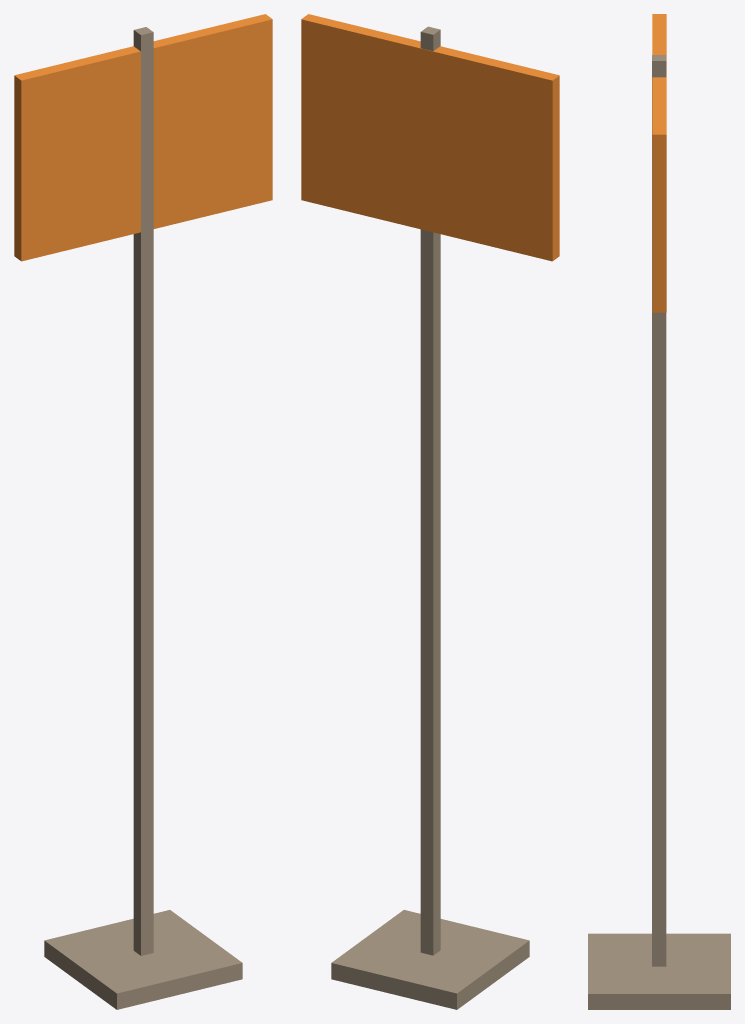
Rendered from stock-car-oval-speedway-pit-sign-pole-d46403e8__16943.glb.
3 views of the same model, side by side, from view 1: azimuth 30°, elevation 25°; view 2: azimuth 150°, elevation 25°; view 3: azimuth 270°, elevation 25° (orthographic).
Visible parts, largest first — view 1: pit-sign-pole; view 2: pit-sign-pole; view 3: pit-sign-pole.
Part boxes in pixels (bbox=[...]): pit-sign-pole: bbox=[14, 14, 272, 1009]; pit-sign-pole: bbox=[301, 14, 559, 1009]; pit-sign-pole: bbox=[588, 14, 730, 1009].
Size of the model in its own units: 0.8 by 2.85 by 0.4001.
